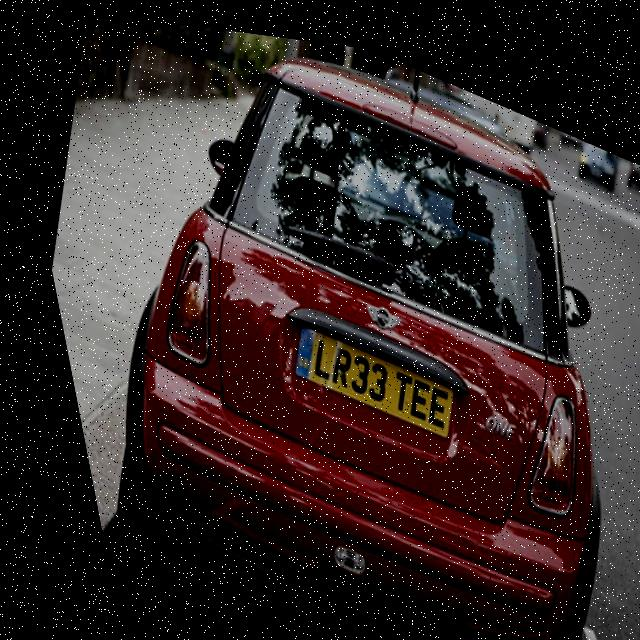license_plate: (272, 313, 446, 424)
